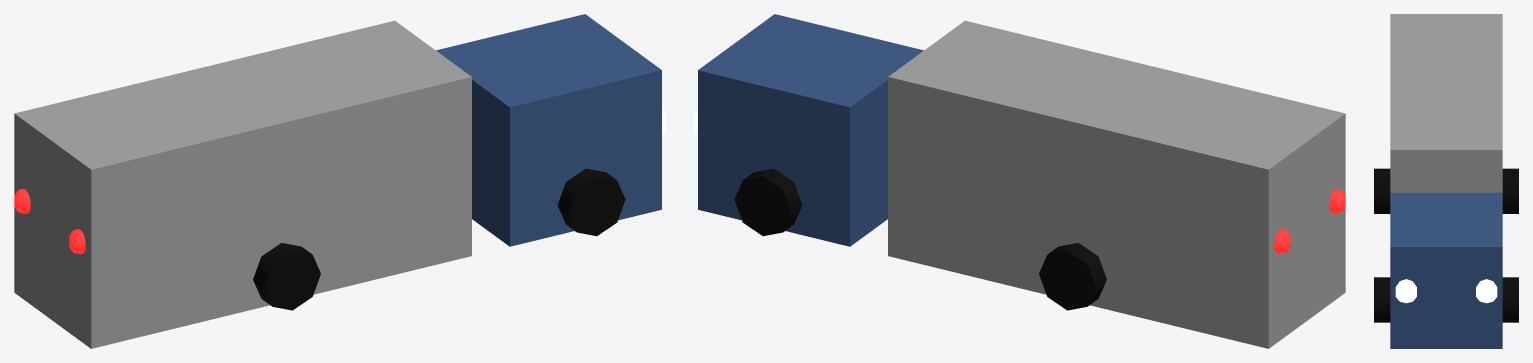
Rendered from vehicle-truck.glb.
3 renders of one model, left to right at view 1: azimuth 30°, elevation 25°; view 2: azimuth 150°, elevation 25°; view 3: azimuth 270°, elevation 25°, orthographic. The views are drawn at different scales.
Parts seen in each view (by area): view 1: container, cab, wheel-0, wheel-2; view 2: container, cab, wheel-1, wheel-3; view 3: container, cab, wheel-0, wheel-1, wheel-2, wheel-3, headlight-r, headlight-l.
Part boxes in pixels (box(x1,y1,x2,y2)): container: box(14, 20, 471, 348); cab: box(436, 14, 661, 246); wheel-0: box(557, 168, 625, 236); wheel-2: box(253, 243, 320, 310); container: box(888, 20, 1345, 348); cab: box(698, 14, 923, 246); wheel-1: box(734, 168, 802, 236); wheel-3: box(1039, 243, 1106, 310); container: box(1390, 14, 1502, 192); cab: box(1390, 192, 1502, 348); wheel-0: box(1374, 277, 1390, 322); wheel-1: box(1502, 277, 1518, 322); wheel-2: box(1374, 168, 1390, 213); wheel-3: box(1502, 168, 1518, 213); headlight-r: box(1395, 279, 1416, 303); headlight-l: box(1476, 279, 1497, 303).
Size of the model in its own units: 3.13 by 0.9 by 0.9.
